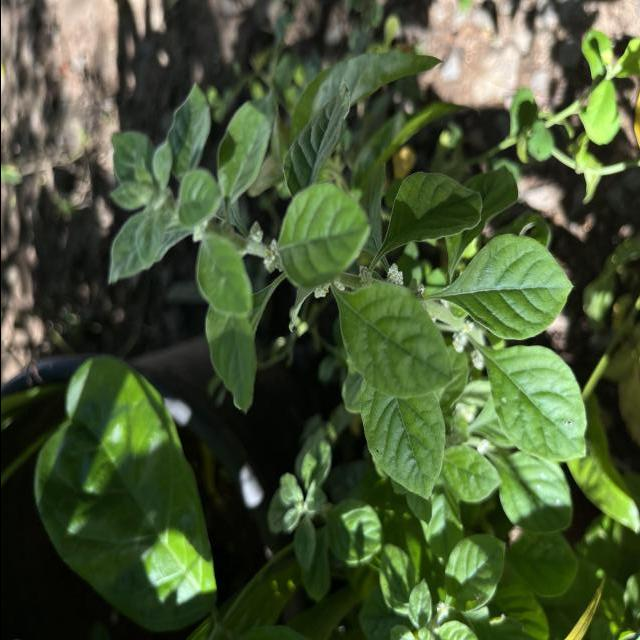Aerva lanata: (444, 230, 576, 342), (482, 342, 588, 463), (356, 376, 448, 503), (374, 168, 482, 258)
